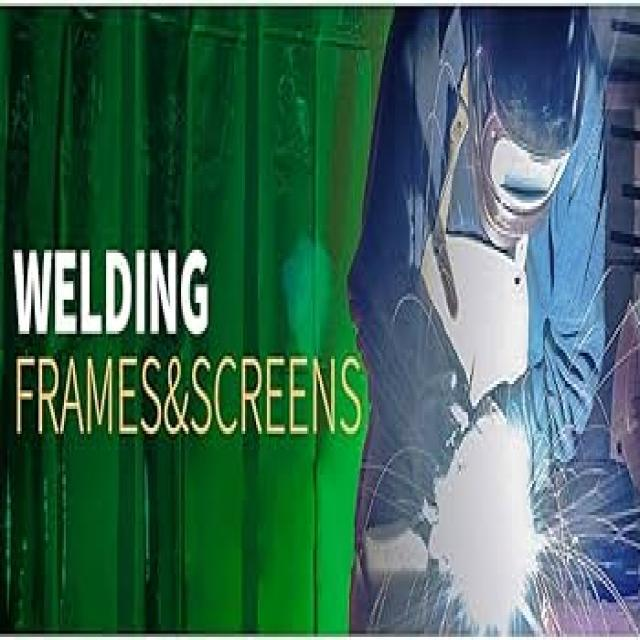with_helmet: (449, 3, 595, 259)
